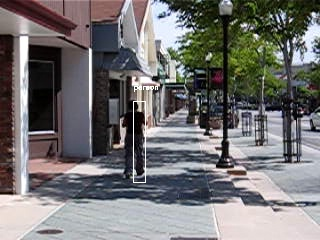person: (123, 100, 148, 178), (122, 100, 147, 178), (124, 100, 149, 178), (123, 99, 148, 177), (123, 101, 148, 179)
target_negative: (195, 36, 241, 145), (91, 127, 165, 158), (236, 13, 300, 45), (2, 190, 103, 198), (232, 167, 278, 177), (162, 153, 168, 199)
